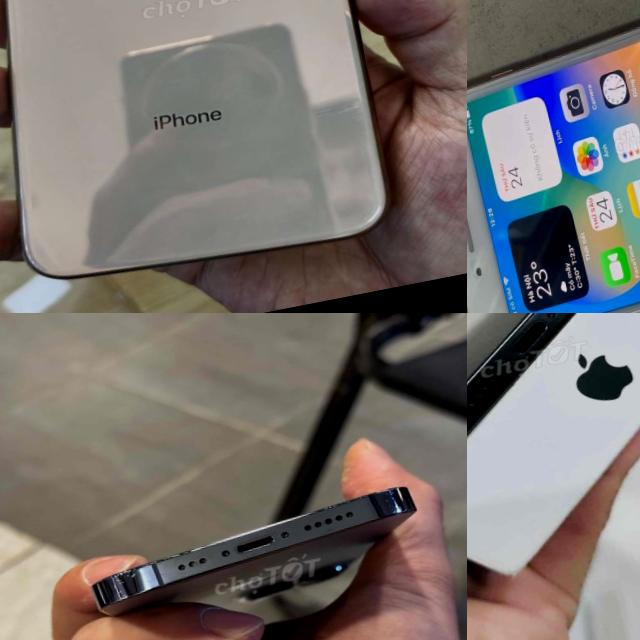gen_12_13: (76, 470, 454, 640)
gen_16: (467, 313, 640, 489)
gen_7_8: (467, 0, 640, 313)
gen_x_xs: (3, 0, 387, 277)
